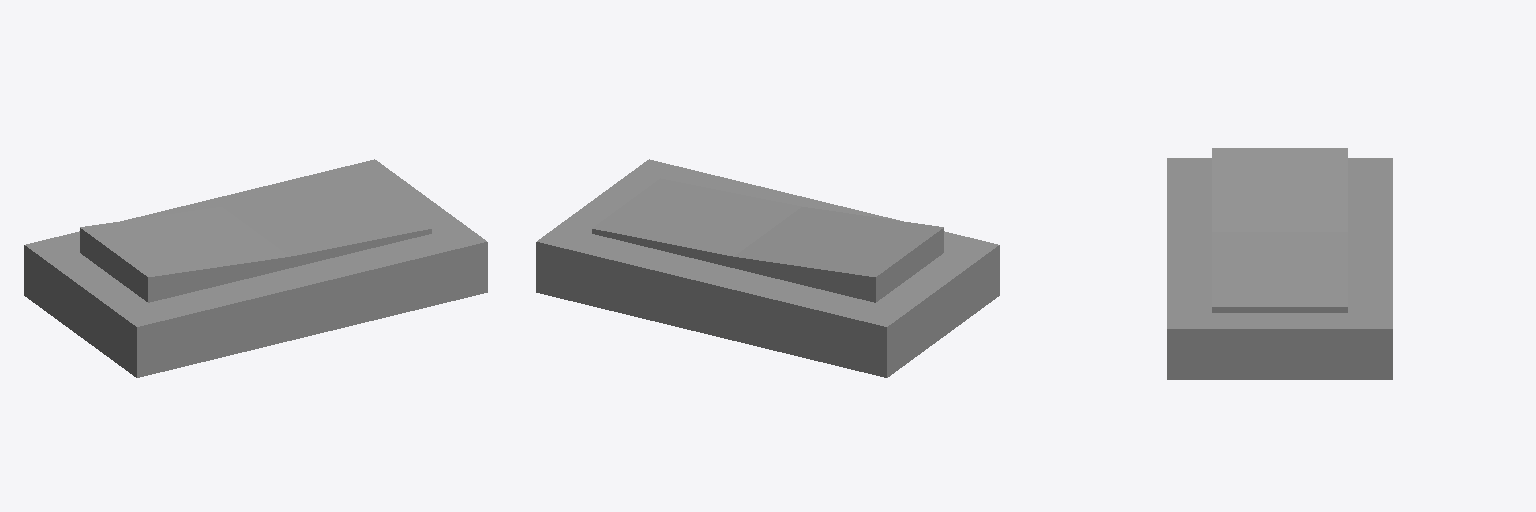
The model's file is lightswitch.obj.
3 views of the same model, side by side, from view 1: azimuth 30°, elevation 25°; view 2: azimuth 150°, elevation 25°; view 3: azimuth 270°, elevation 25° (orthographic).
Parts seen in each view (by area): view 1: Cube; view 2: Cube; view 3: Cube.
Part boxes in pixels (bbox=[...]): Cube: bbox=[24, 159, 487, 377]; Cube: bbox=[536, 159, 999, 377]; Cube: bbox=[1167, 148, 1392, 379].
Bounding box in the file's own units: 3.6 × 0.75 × 2.